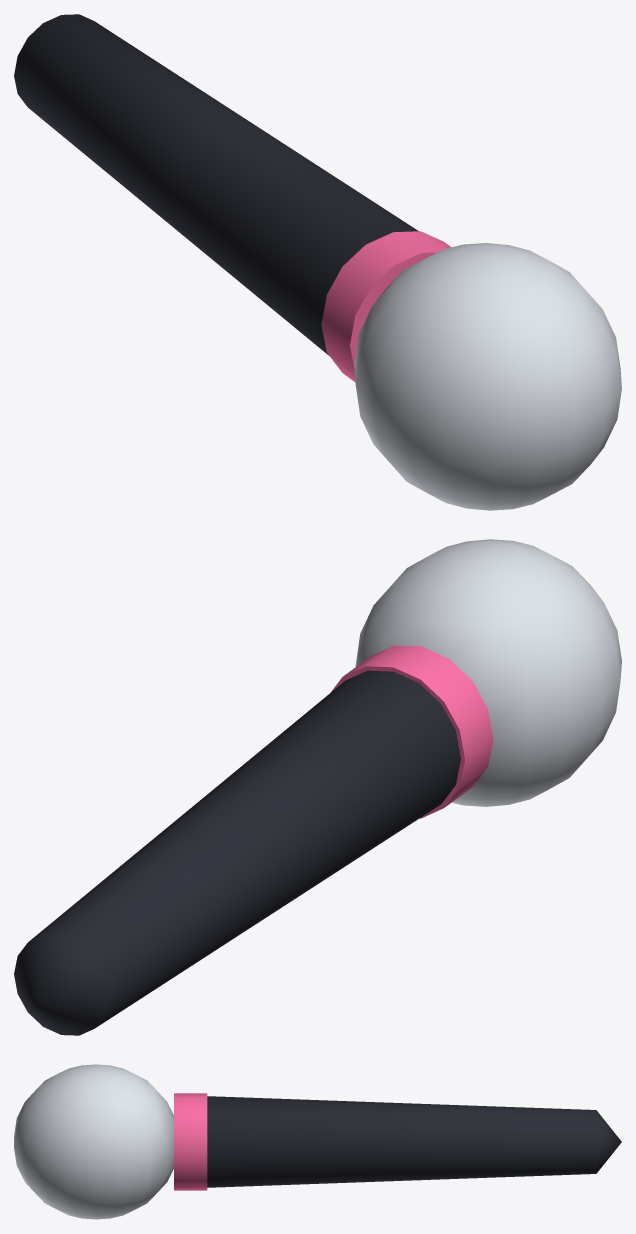
File: mic.glb
The picture shows the model from 3 angles, top to bottom: view 1: azimuth 30°, elevation 25°; view 2: azimuth 150°, elevation 25°; view 3: azimuth 270°, elevation 25°; orthographic projection. The views are drawn at different scales.
Visible parts, largest first — view 1: mic; view 2: mic; view 3: mic.
Part boxes in pixels (x1,y1,x2,y2): mic: (14, 14, 621, 510); mic: (14, 539, 621, 1035); mic: (14, 1064, 621, 1219).
Size of the model in its own units: 0.056 by 0.056 by 0.2187.
